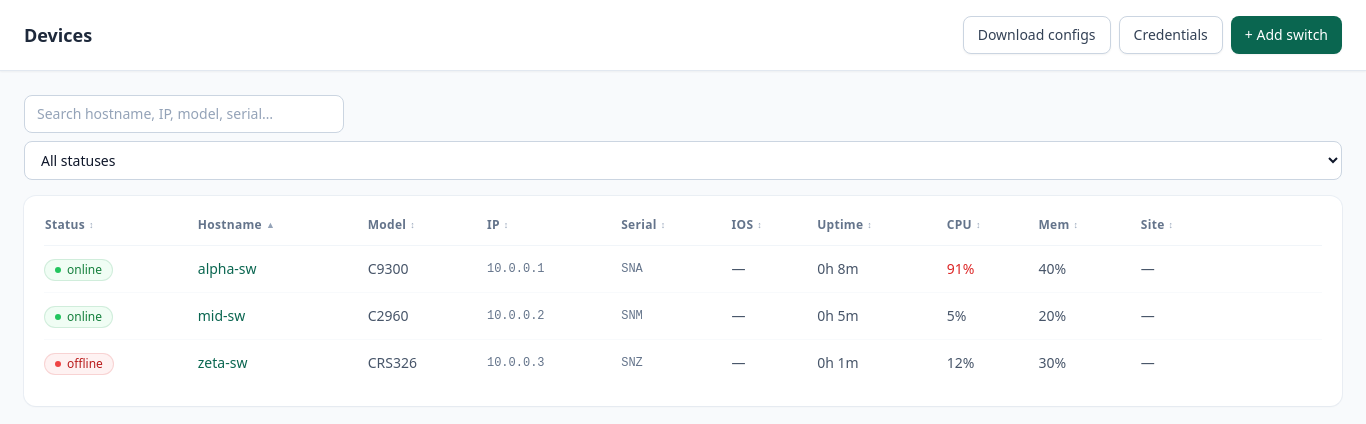
Test case: Devices list — sort & filter › the status dropdown filters to matching devices
Select "Offline" in the dropdown at (683, 160), box [24,141,1342,180]
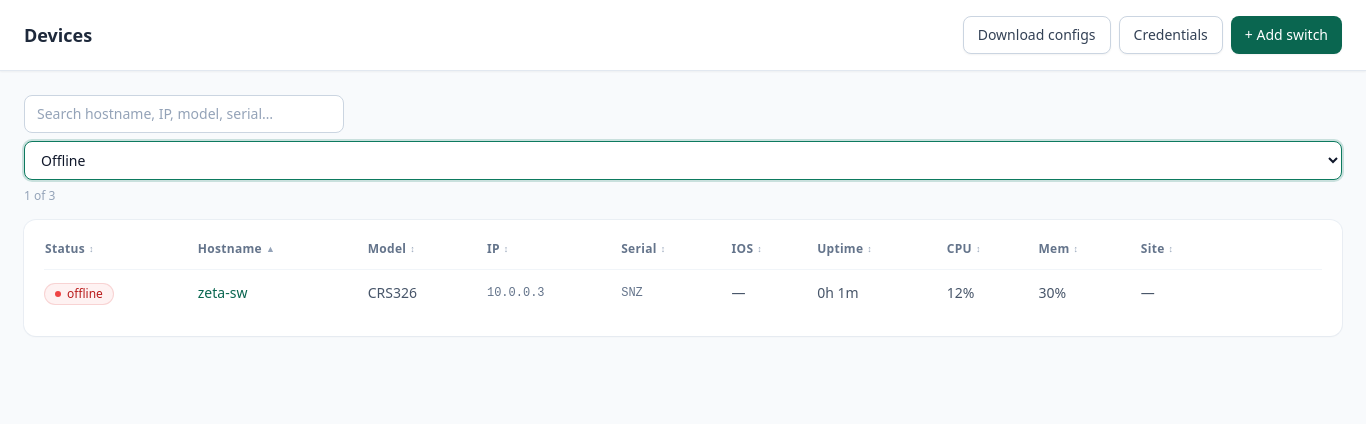
expect the text "1 of 3" is shown: met, box [24,188,55,204]
